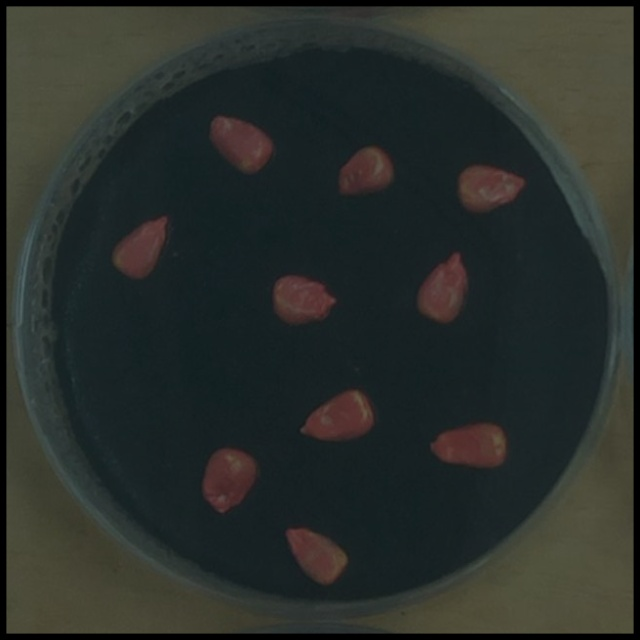Zea mays: (290, 379, 382, 450), (103, 207, 177, 287), (199, 108, 279, 182), (276, 520, 354, 594), (408, 245, 475, 330), (421, 415, 515, 475), (194, 442, 264, 522), (263, 267, 342, 334), (451, 158, 534, 221), (327, 139, 402, 206)
